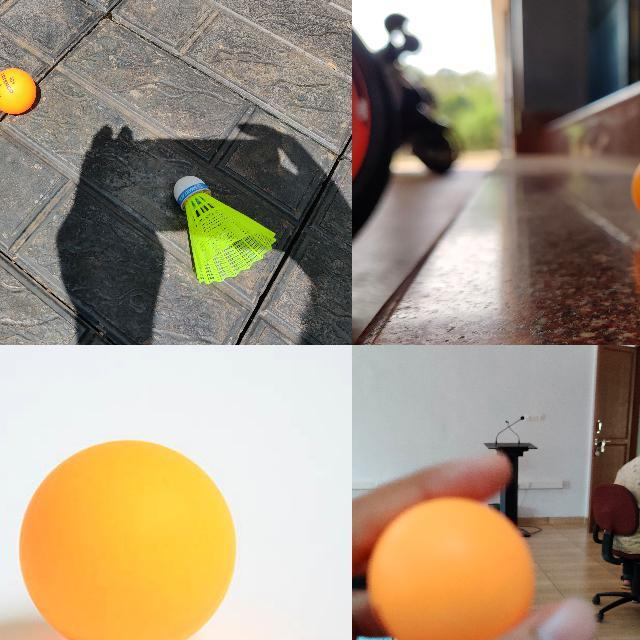ping-pong-ball: (18, 438, 237, 639), (368, 492, 535, 639), (0, 67, 36, 114)
